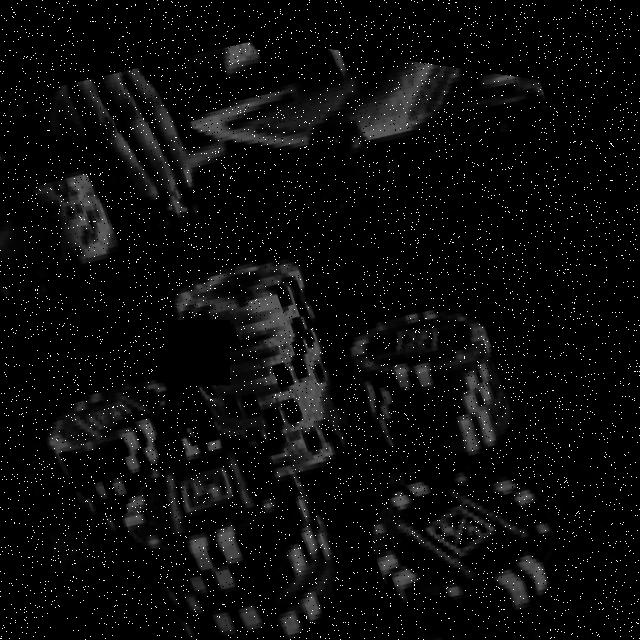Chip: (94, 370, 379, 640), (150, 220, 383, 510), (342, 404, 599, 640), (24, 337, 231, 563), (335, 266, 537, 483)
